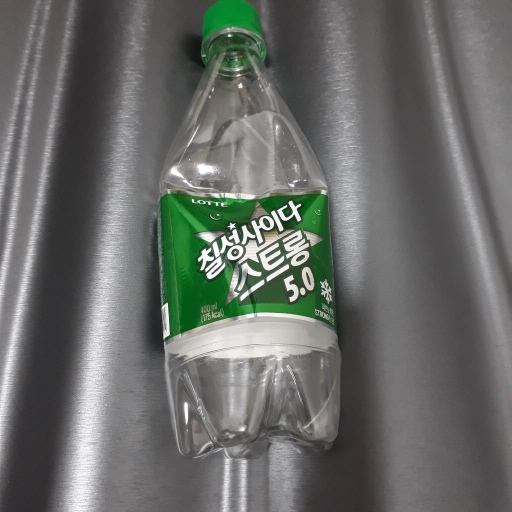Plastic_0: (149, 1, 341, 459)
